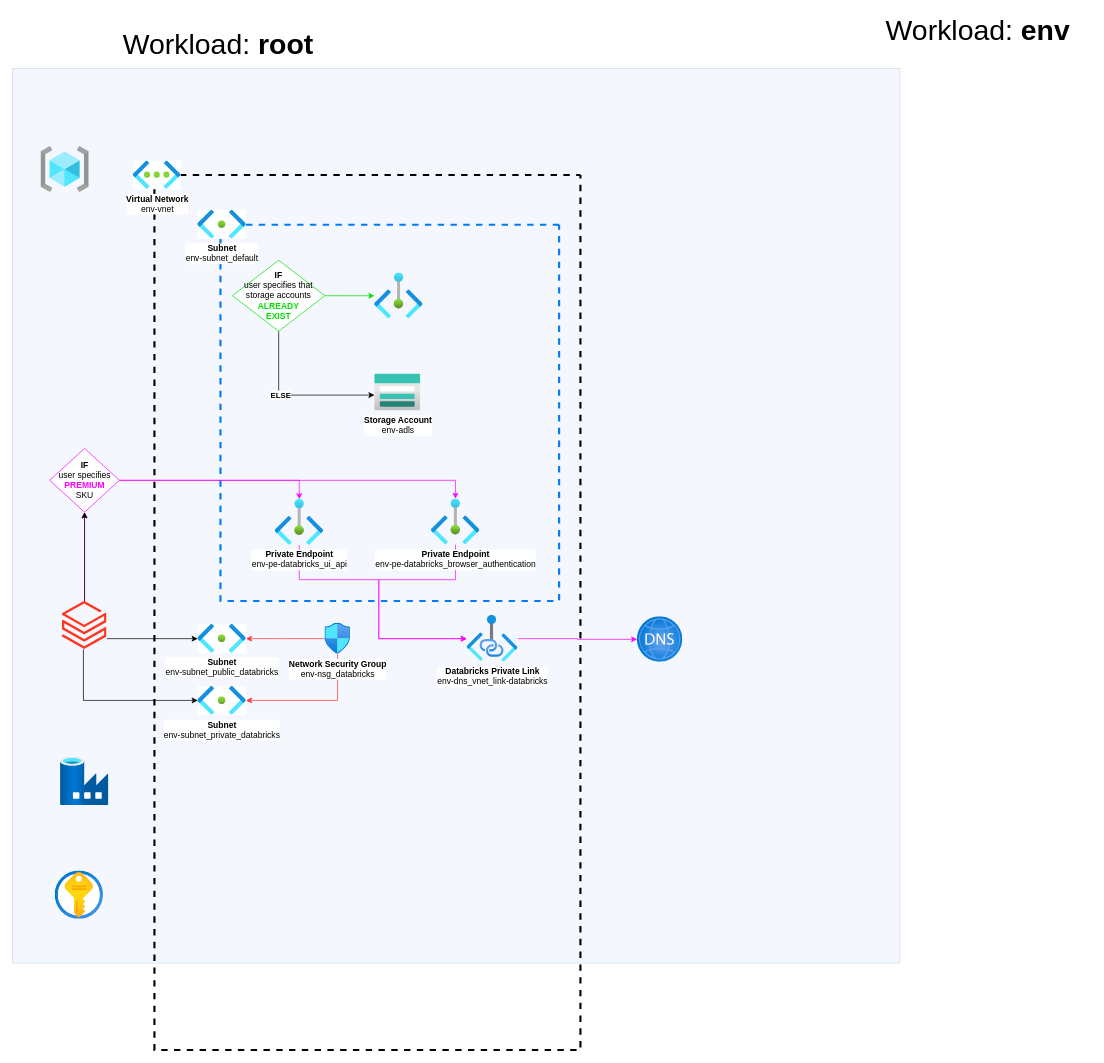
Image size: 1104x1063. Some labels were removed from this diagram. Each missing label, with the box of its shape:
Data Factory env-adf: (60, 757, 108, 805)
Databricks Workspace env-dbw: (62, 601, 106, 649)
DNS Zone privatelink.azuredatabricks.net: (637, 616, 682, 662)
Key Vault env-akv: (55, 870, 103, 919)
Private Endpoint env-pe_adls Connects to existing storage accounts.: (374, 272, 422, 318)
Resource Group env-rg: (40, 146, 89, 192)
